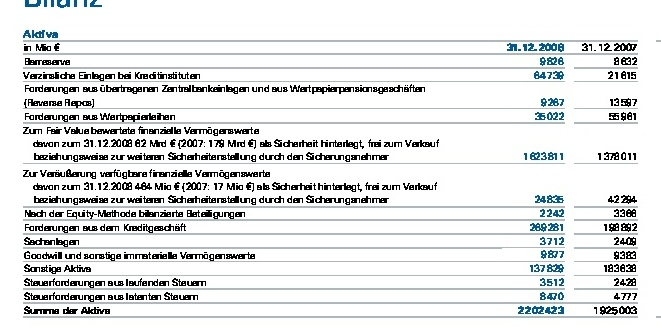table: (0, 0, 661, 336)
